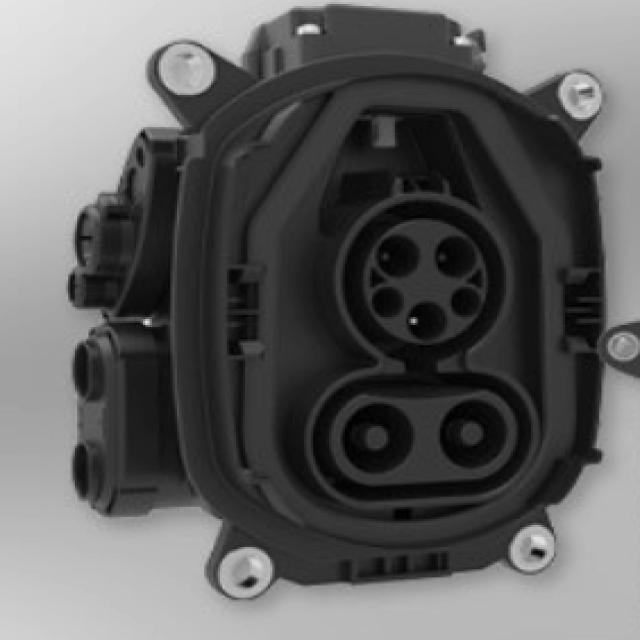CCS1: (302, 207, 558, 518)
